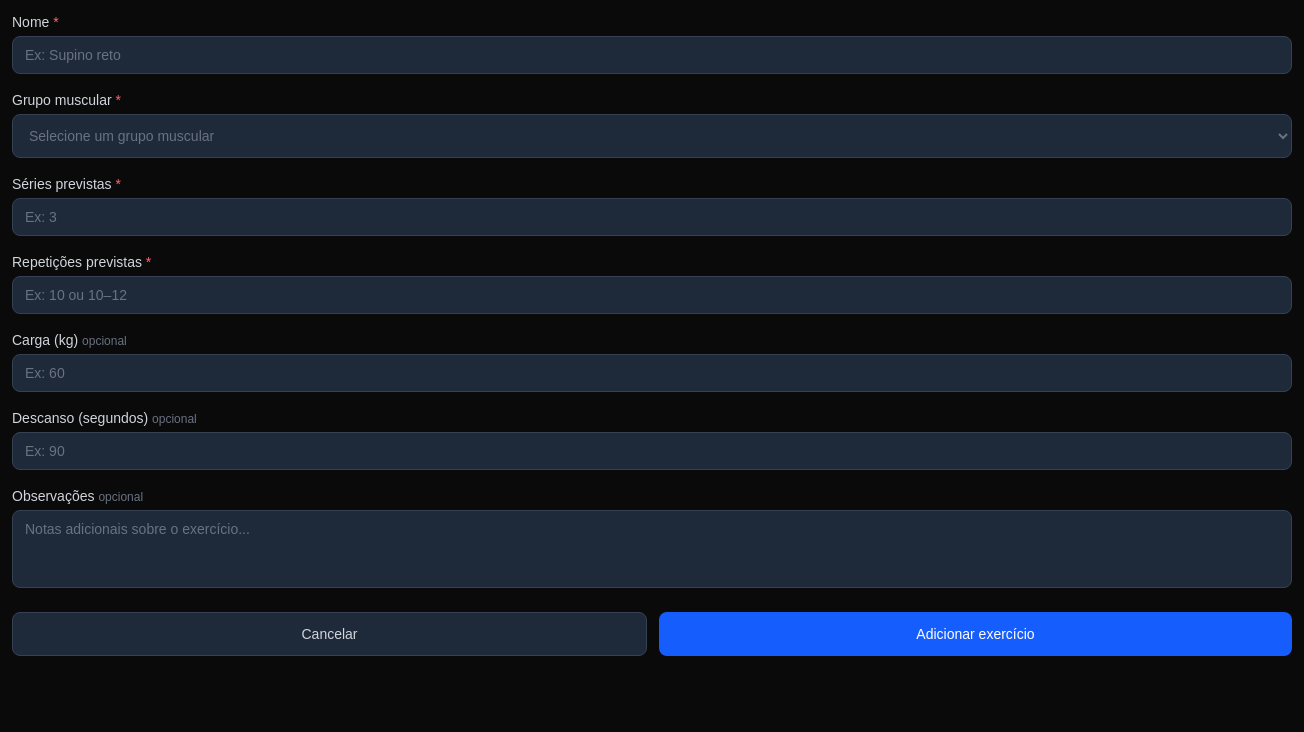
Test case: ExerciseForm › shows inline error for plannedSets field when validator returns plannedSets error
Step 1. Click the button "Adicionar exercício" → (976, 634), box [659, 612, 1292, 656]
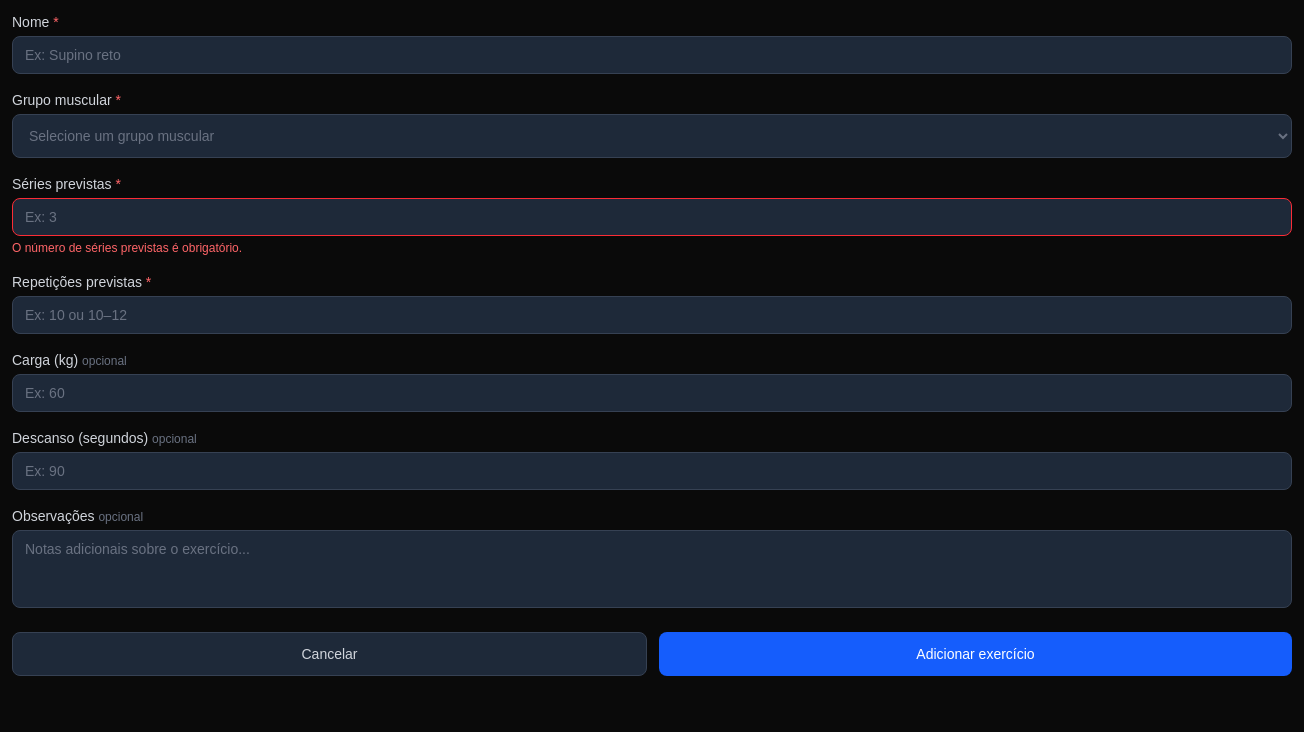
Now the text "O número de séries previstas é obrigatório." is shown, box [12, 241, 242, 255]
